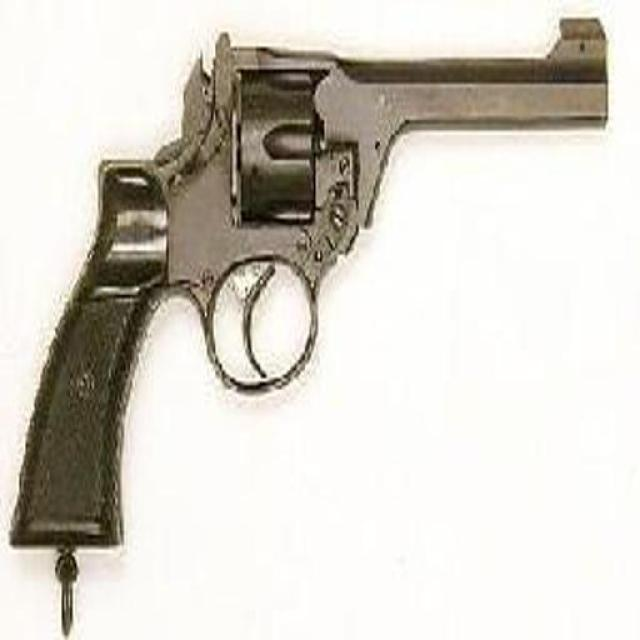pistol: (6, 14, 610, 545)
